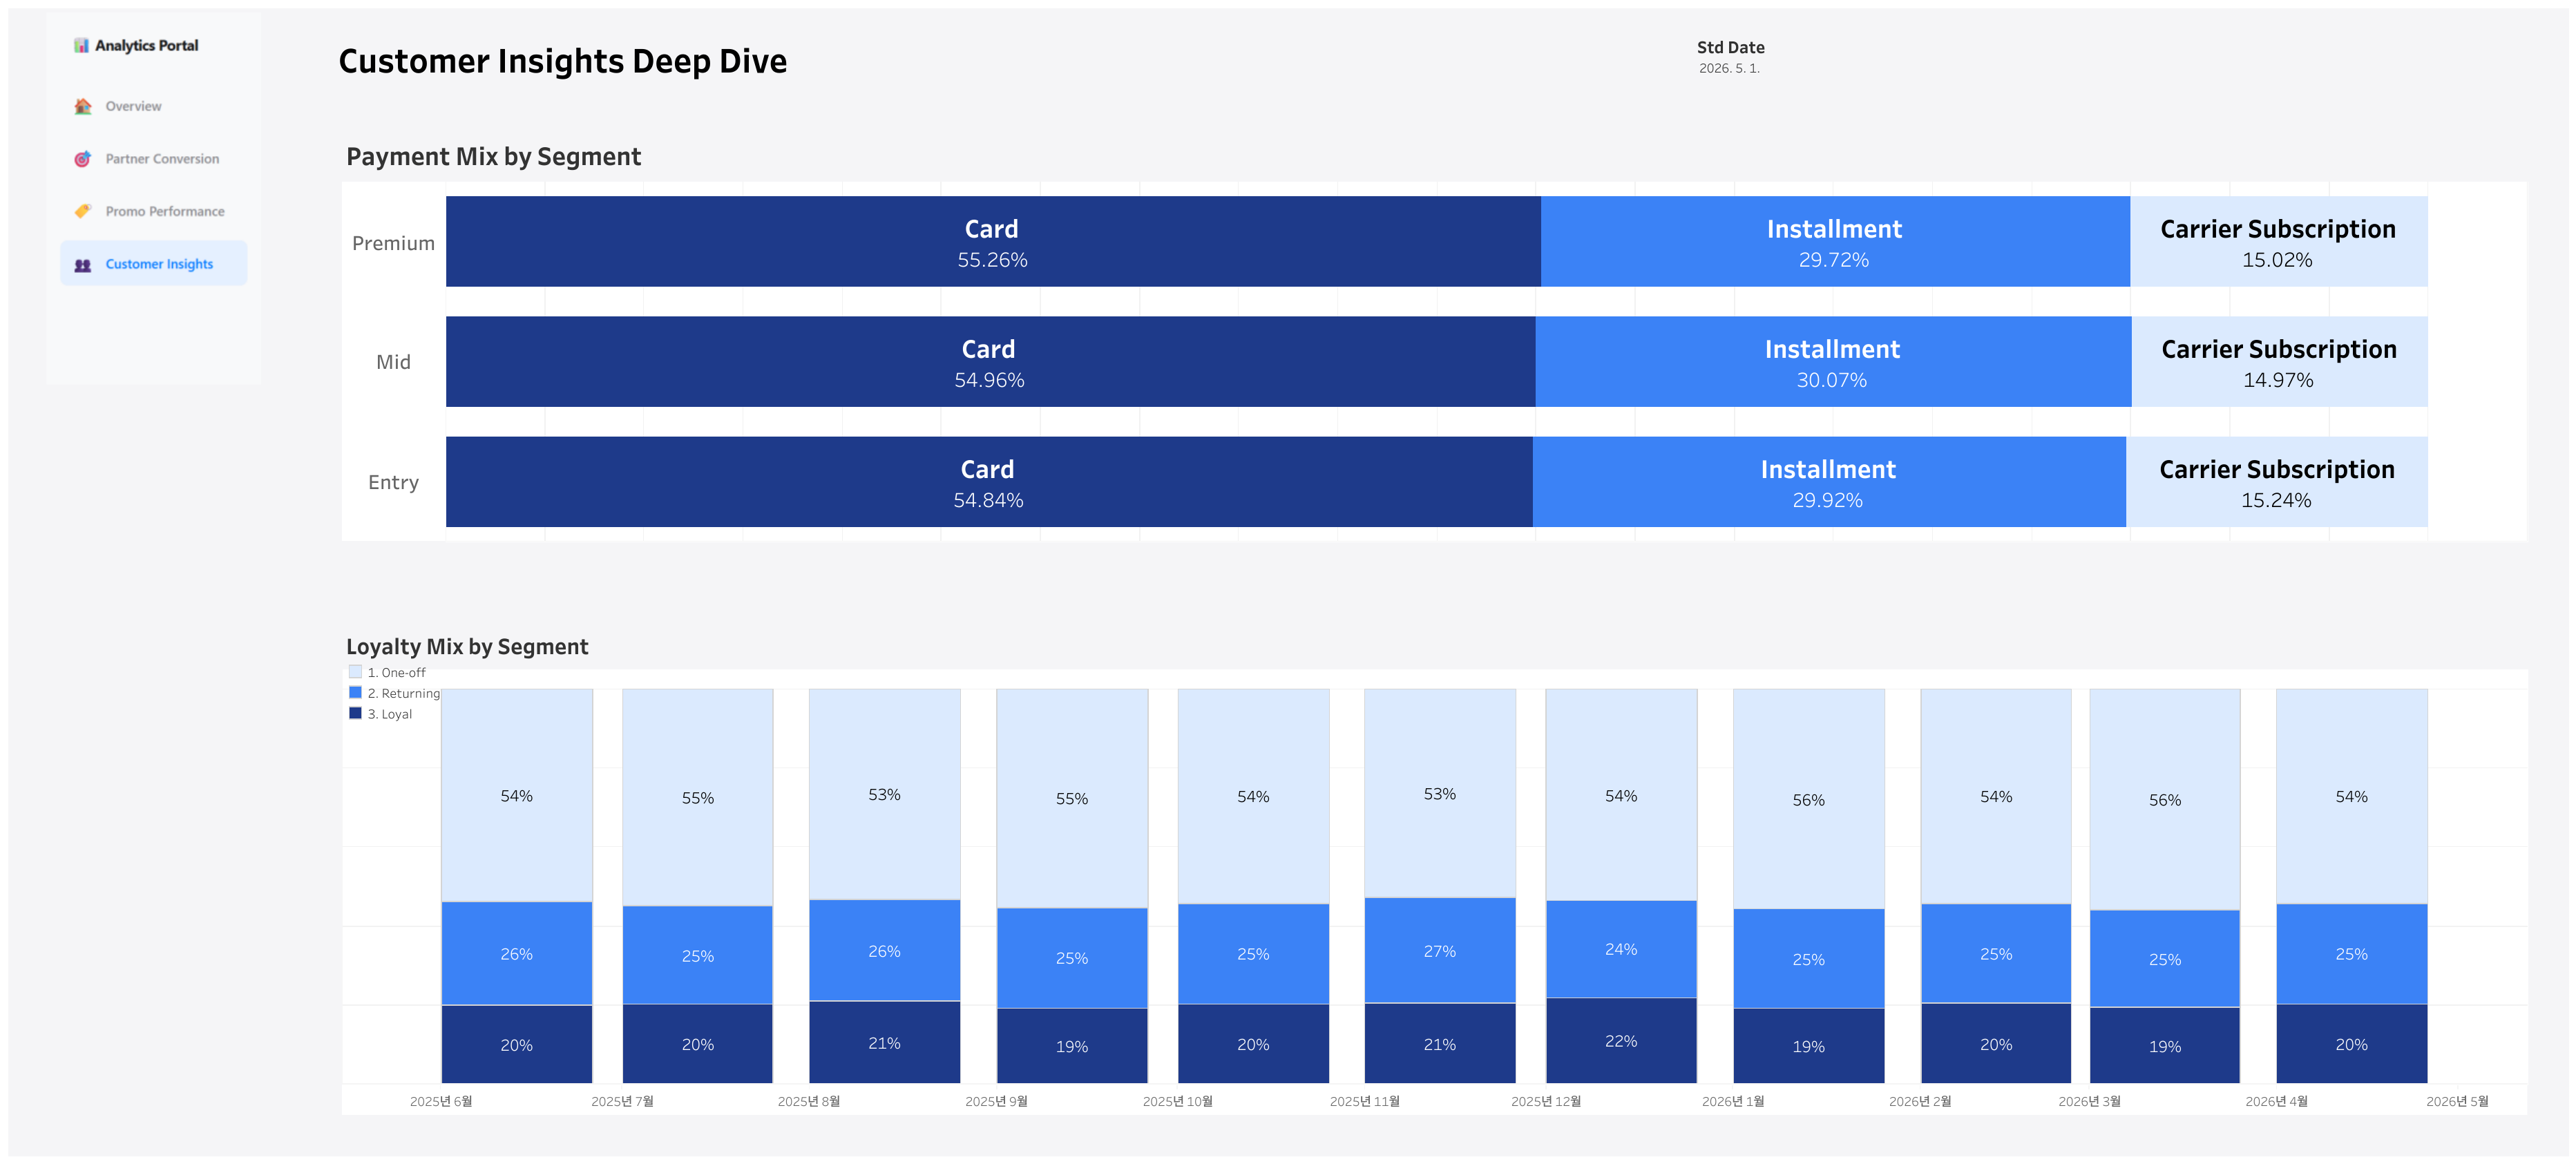

This screenshot's page, from the dashboard's own definition file:
{"tool":"tableau","page":{"name":"Customer Insights","canvas":[1000,1000],"units":"permille","ordinal":0},"visuals":[{"type":"image","param":"Image/dash4.png","box":[2.4,4.2,113.5,328.7]},{"type":"text","box":[124.8,14.8,511.5,63.1]},{"type":"parameter","param":"[Parameters].[매개 변수 2]","box":[654.1,14.8,79.5,63.1]},{"type":"parameter","param":"[Parameters].[매개 변수 1]","box":[733.6,14.8,79.2,63.1]},{"type":"blank","box":[830.7,14.8,158.1,63.1]},{"type":"dashboard-object","box":[14.5,73.7,93.1,39.8]},{"type":"worksheet","title":"Payment Mix by Segment","mark":"Automatic","rows":["segment"],"cols":["customer_id"],"box":[121.8,88.5,869.9,400.9]},{"type":"dashboard-object","box":[14.8,116.1,93.1,39.8]},{"type":"dashboard-object","box":[14.8,157.5,93.1,39.8]},{"type":"dashboard-object","box":[13.3,204.7,93.1,39.8]},{"type":"blank","box":[2.4,333,113.5,662.8]},{"type":"worksheet","title":"Loyalty Mix by Segment","mark":"Bar","cols":["first_purchase_date"],"box":[121.8,510.6,869.9,474.6]},{"type":"legend","title":"Loyalty Mix by Segment","param":"[federated.0gik13d1h7tcz112qqhxi0gnzb54].[none:Calculation_1445650007539719:nk]","box":[133.9,567.3,51.5,99.7]}]}

Visuals, with their boxes on the dashboard's canvas, which has no fixed pixel size, in thousandths of its width and height (x1, y1, x2, y2). These are canvas units, not pixel positions in the 2576x1164 screenshot, which may show the page scaled, cropped or inside an application window:
image: 2/4/116/333
text: 125/15/636/78
parameter: 654/15/734/78
parameter: 734/15/813/78
blank: 831/15/989/78
dashboard-object: 14/74/108/114
"Payment Mix by Segment" worksheet: 122/88/992/489
dashboard-object: 15/116/108/156
dashboard-object: 15/158/108/197
dashboard-object: 13/205/106/244
blank: 2/333/116/996
"Loyalty Mix by Segment" worksheet (Bar marks): 122/511/992/985
"Loyalty Mix by Segment" legend: 134/567/185/667
